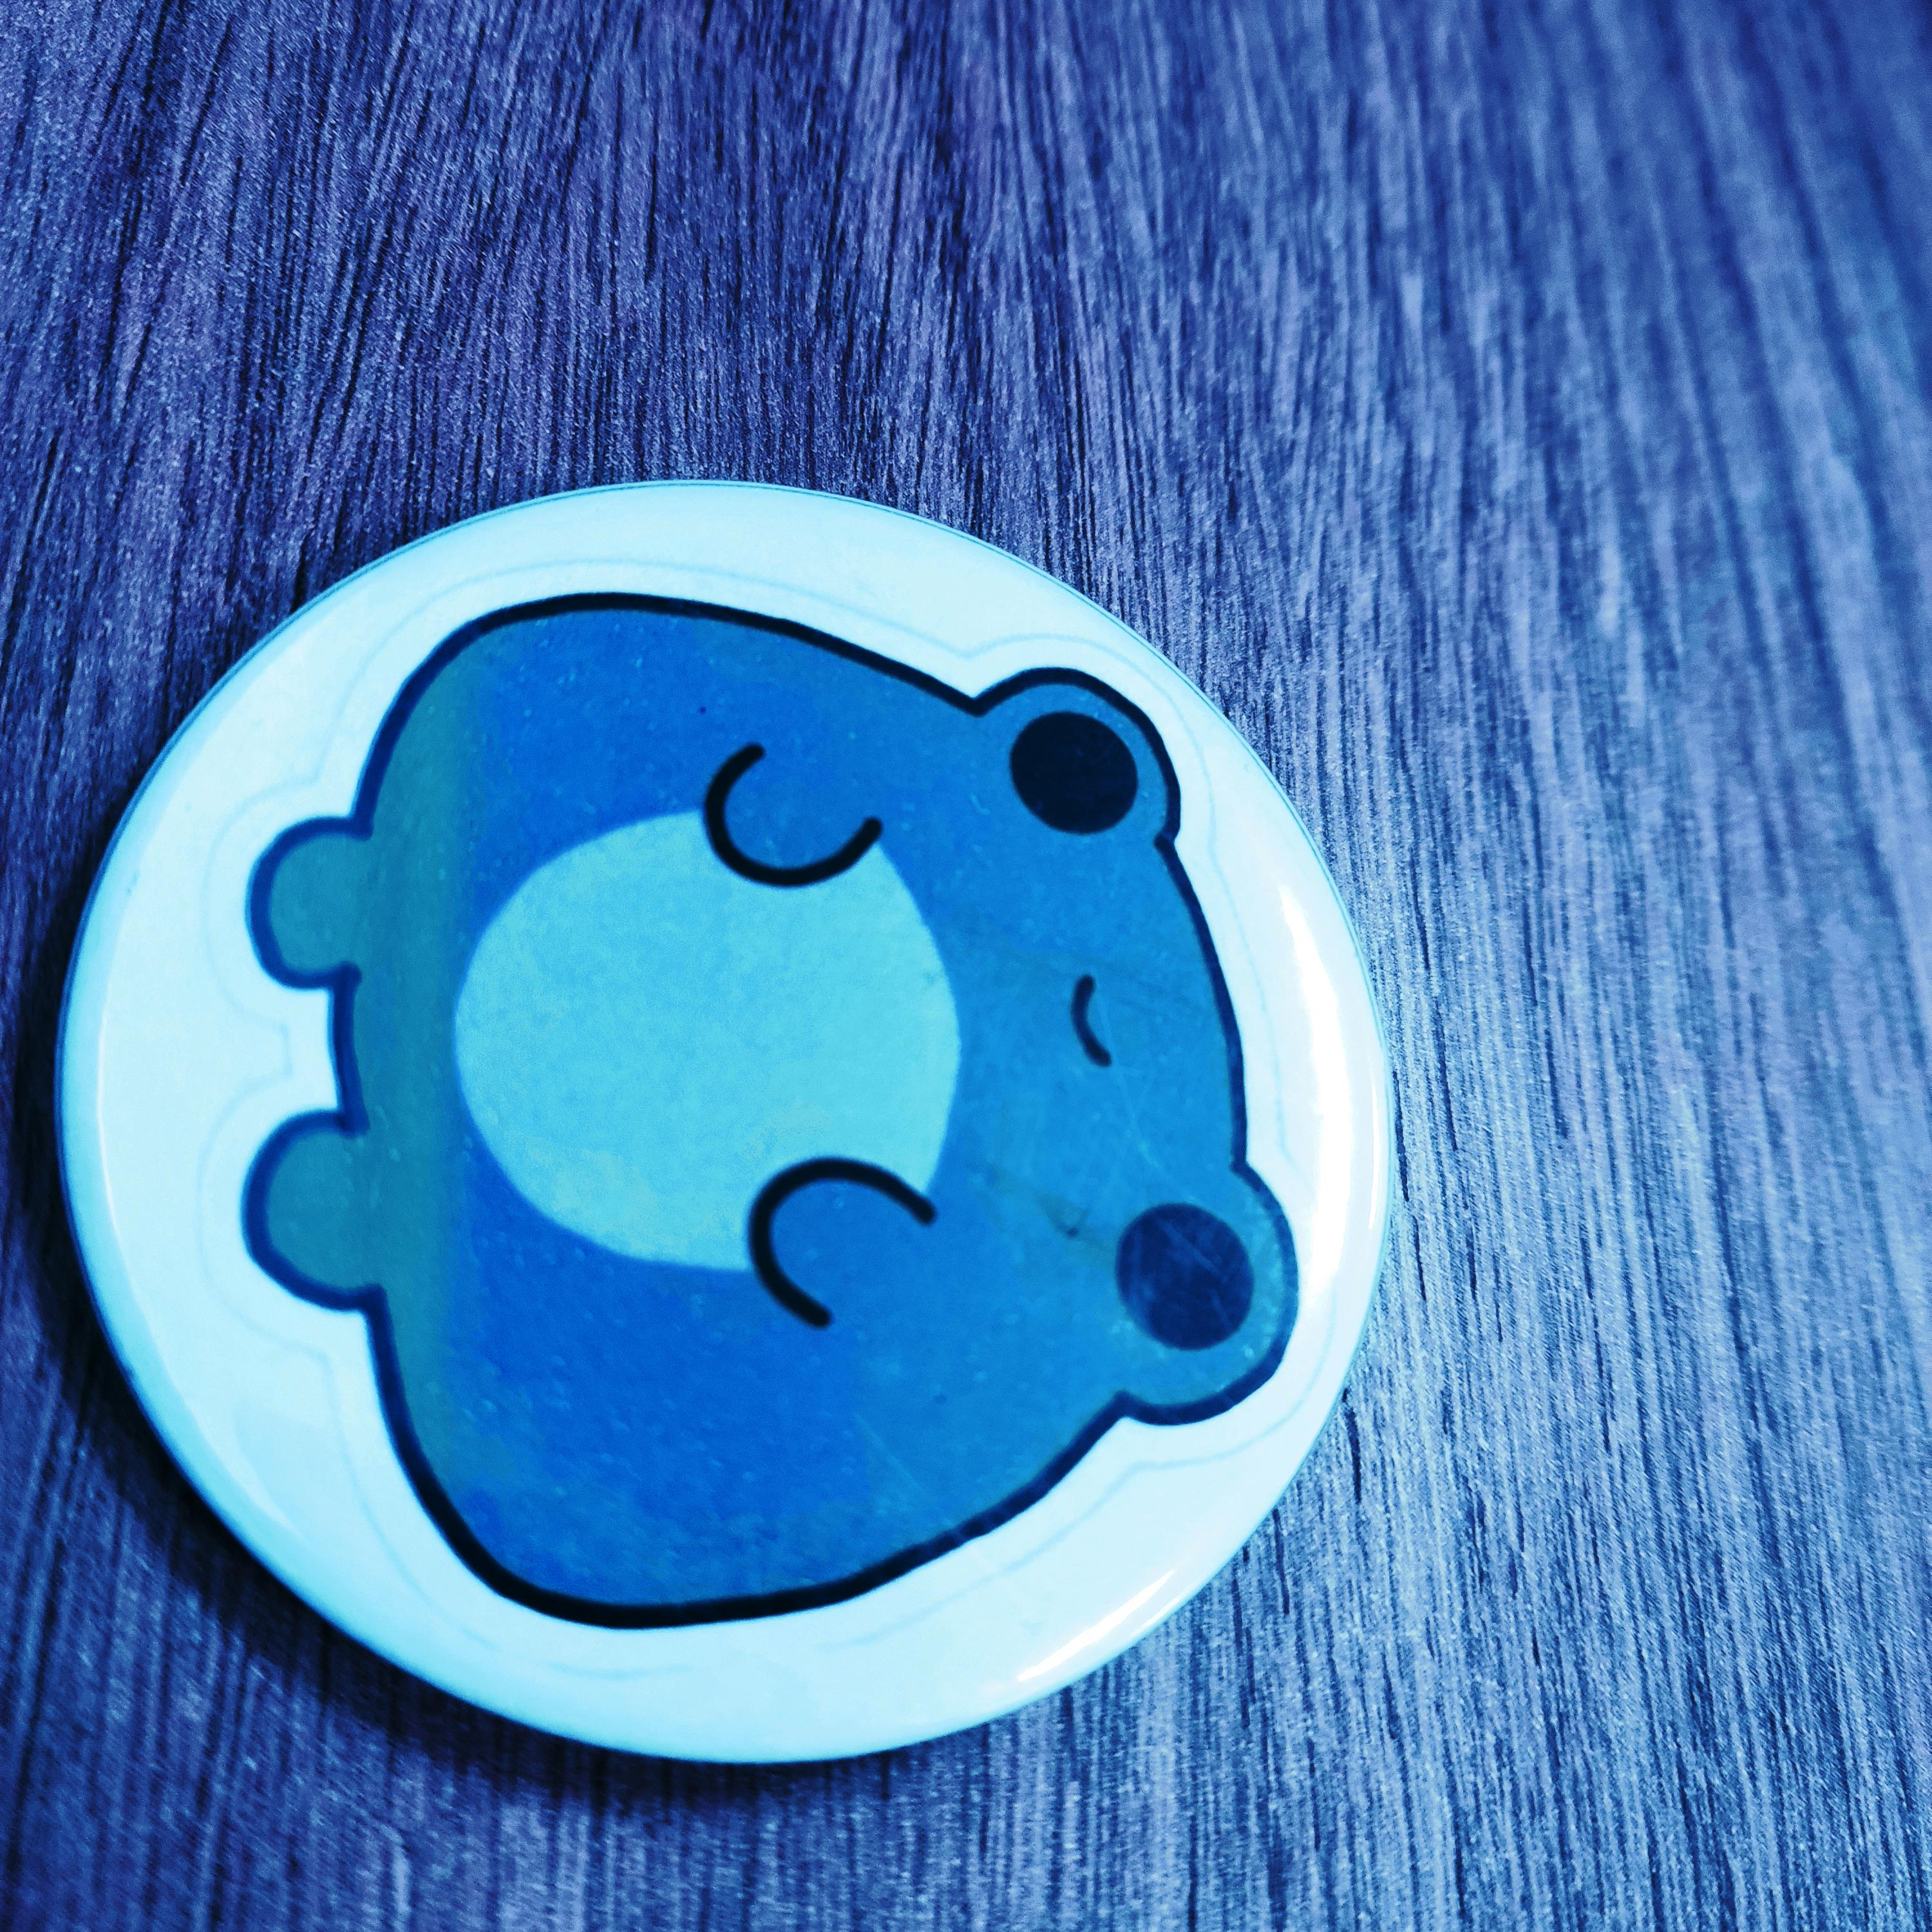pin: (57, 446, 1412, 1792)
